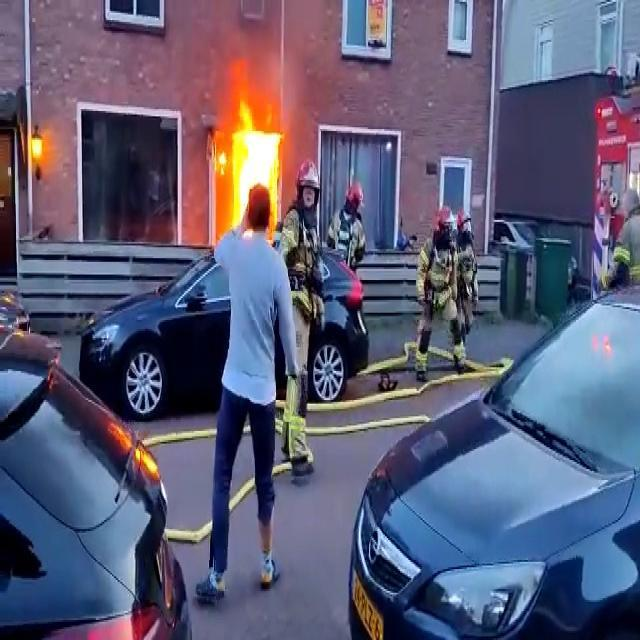Fire: (216, 88, 287, 236)
Smoke: (167, 0, 339, 100)
